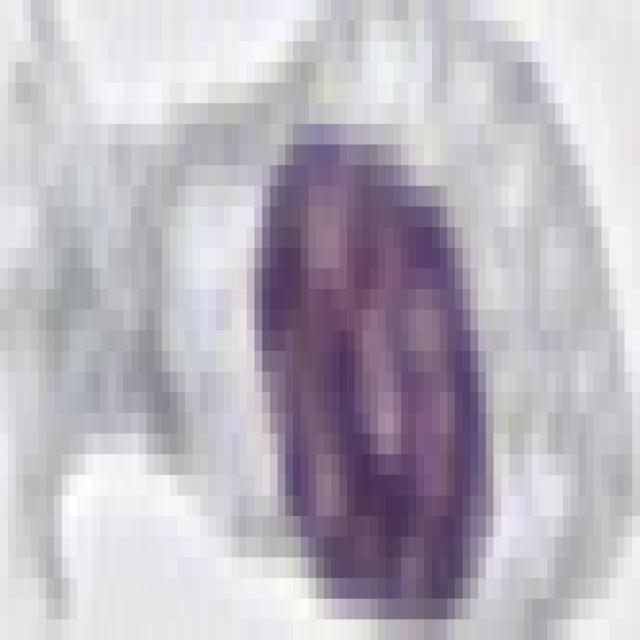cytoplasm: (0, 6, 633, 624)
nucleus: (220, 82, 514, 625)
